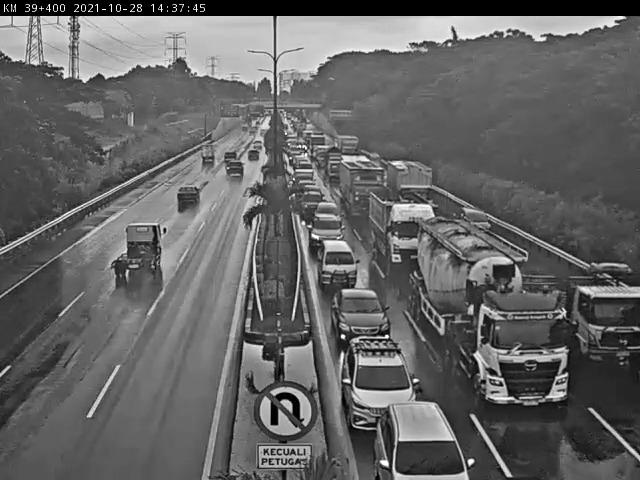big truck: (411, 213, 566, 430), (537, 253, 640, 370), (366, 193, 439, 267), (335, 160, 399, 218), (387, 152, 438, 208)
car: (334, 334, 425, 437), (378, 392, 480, 480), (326, 287, 401, 354), (310, 241, 366, 295), (305, 216, 350, 253), (456, 203, 497, 235), (169, 180, 204, 212), (299, 192, 330, 216), (242, 145, 266, 165), (224, 160, 245, 177)
small truck: (103, 219, 173, 282), (197, 142, 219, 166)
